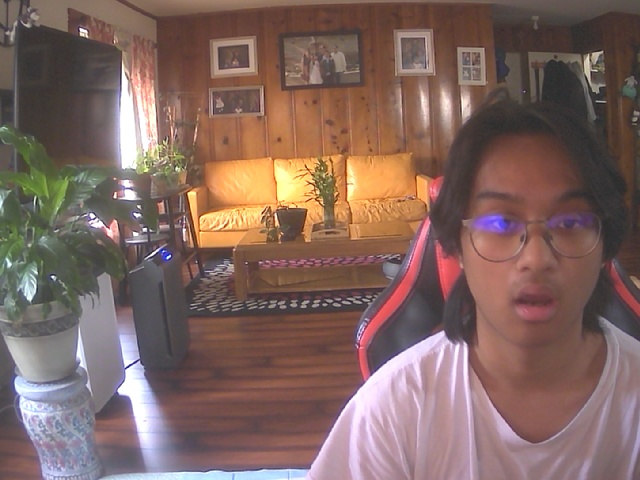fear: (456, 105, 619, 355)
